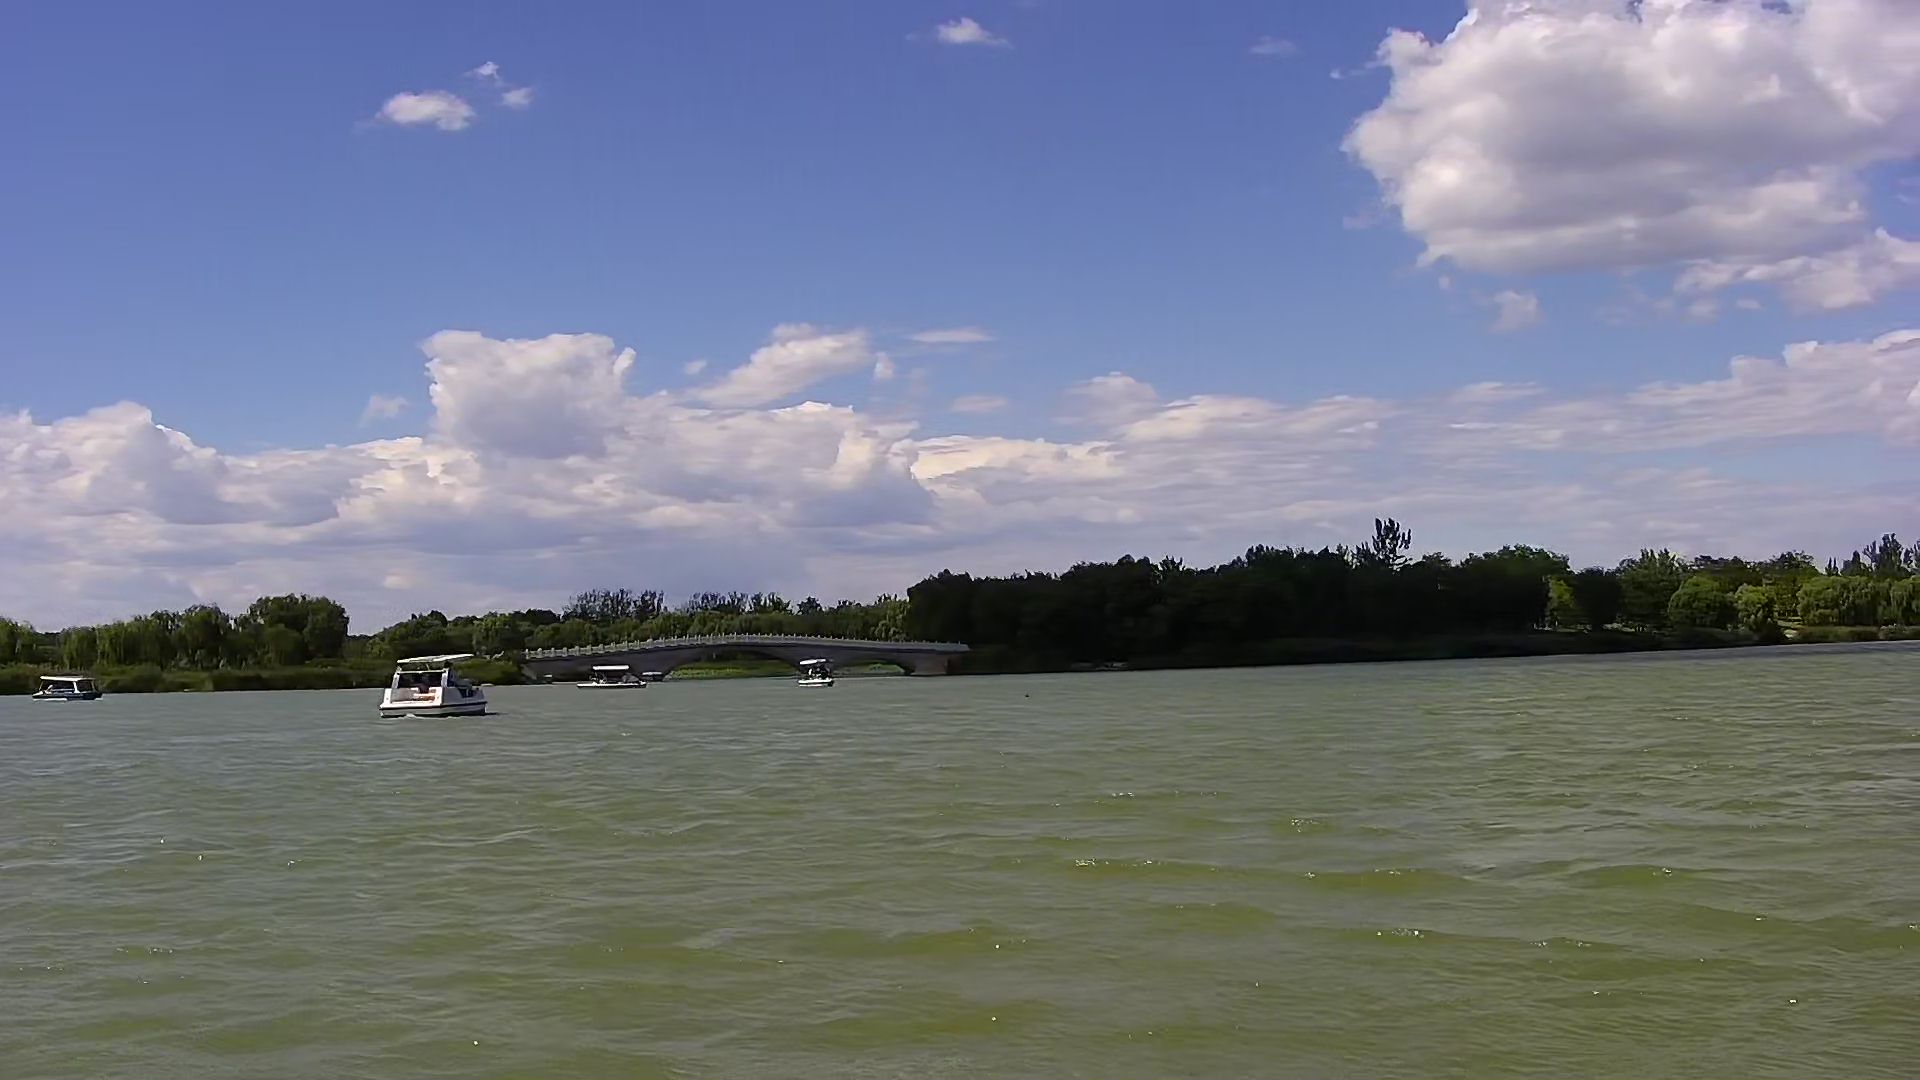boat: (371, 650, 497, 721), (574, 655, 659, 696), (32, 665, 104, 702), (793, 651, 837, 694)
bridge: (524, 626, 959, 688)
